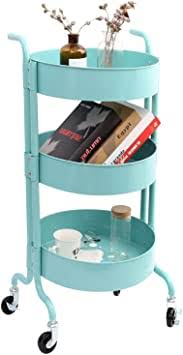Carts: (1, 29, 181, 354)
